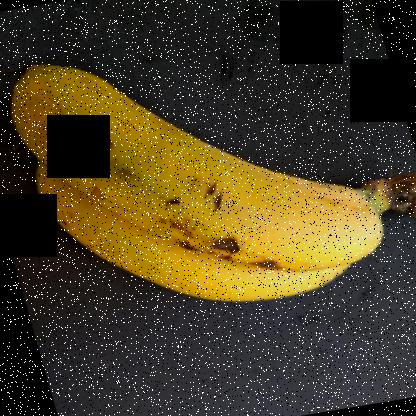ripe: (0, 52, 385, 268)
